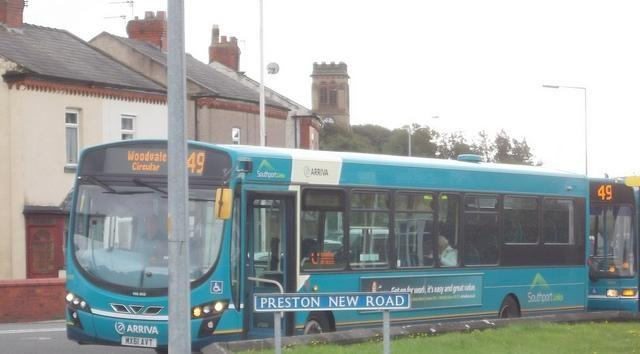bus: (64, 140, 590, 354), (589, 176, 640, 312)
